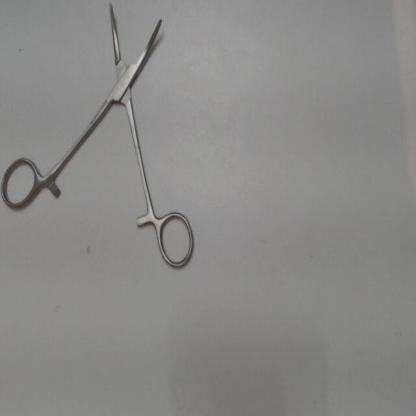Crile Artery Forceps: (1, 1, 199, 278)
